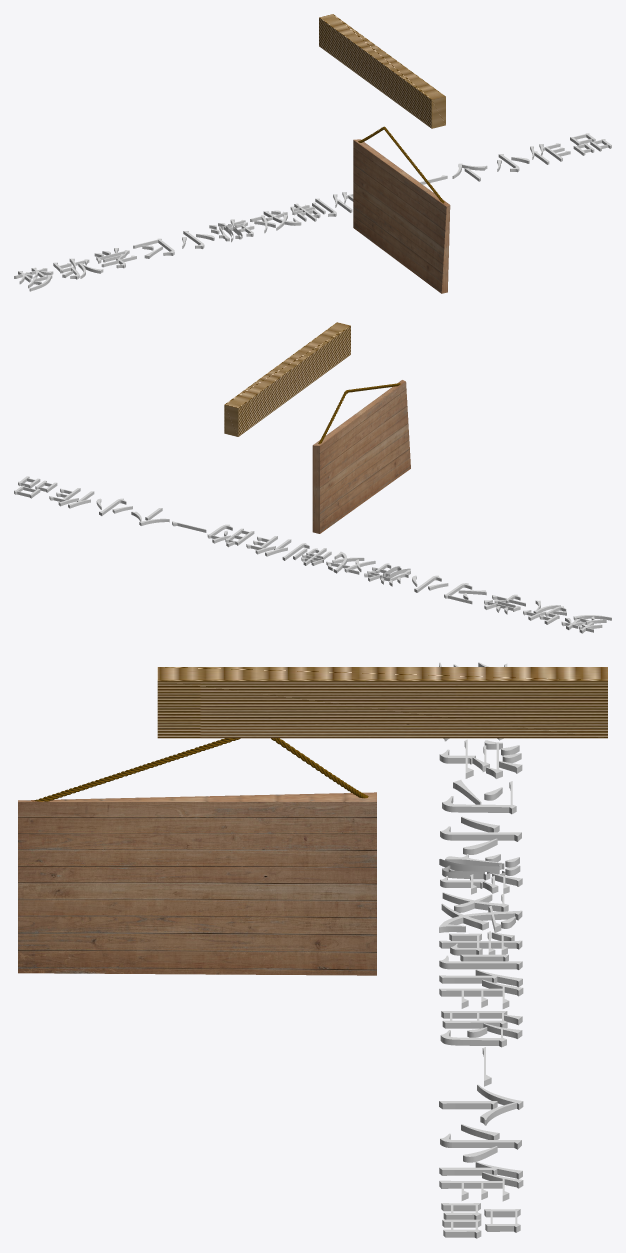
Rendered from intro.FBX.
3 views of the same model, one above another, from view 1: azimuth 30°, elevation 25°; view 2: azimuth 150°, elevation 25°; view 3: azimuth 270°, elevation 25° (orthographic). The views are drawn at different scales.
Parts seen in each view (by area): view 1: Board, MainText, Beam, 图形001; view 2: Board, MainText, Beam; view 3: Board, Beam, MainText, 图形001.
Boxes of the visible parts, bbox=[...] form: Board: bbox=[353, 139, 450, 293]; MainText: bbox=[14, 133, 611, 291]; Beam: bbox=[319, 14, 445, 128]; 图形001: bbox=[358, 126, 444, 203]; Board: bbox=[312, 380, 410, 533]; MainText: bbox=[14, 476, 611, 633]; Beam: bbox=[224, 322, 350, 436]; Board: bbox=[18, 792, 376, 975]; Beam: bbox=[157, 667, 607, 738]; MainText: bbox=[439, 662, 523, 1238]; 图形001: bbox=[32, 738, 368, 801].
Size of the model in its own units: 316 by 83.73 by 138.
3 materials, 2 textured.
